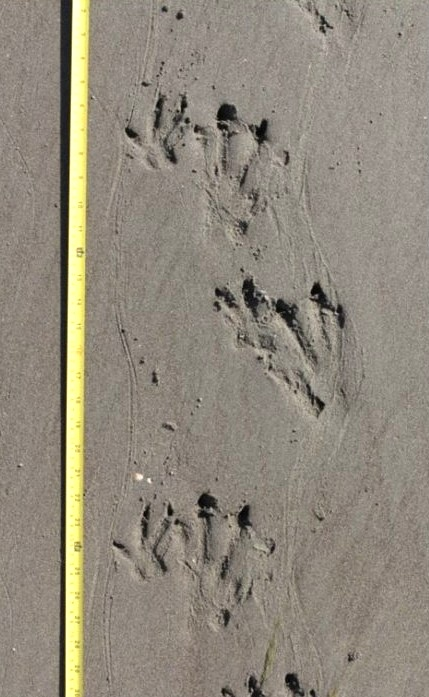beaver: (187, 265, 381, 441), (111, 95, 294, 263), (95, 484, 277, 651)
